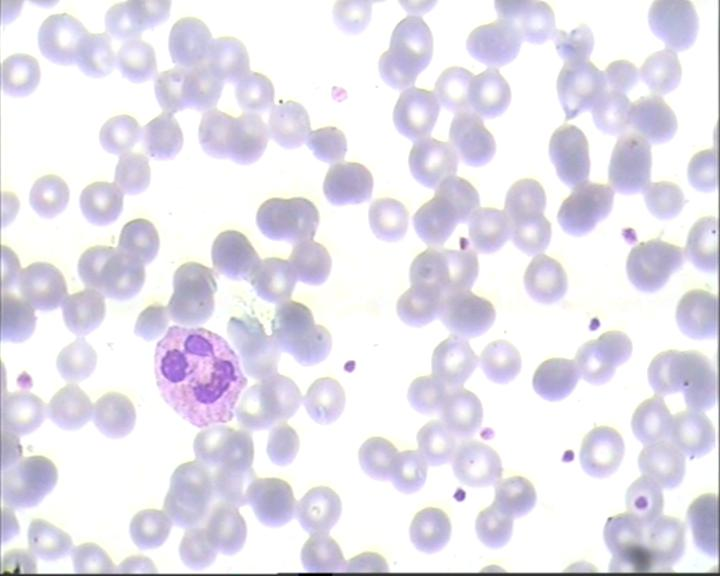neut: (148, 322, 245, 427)
